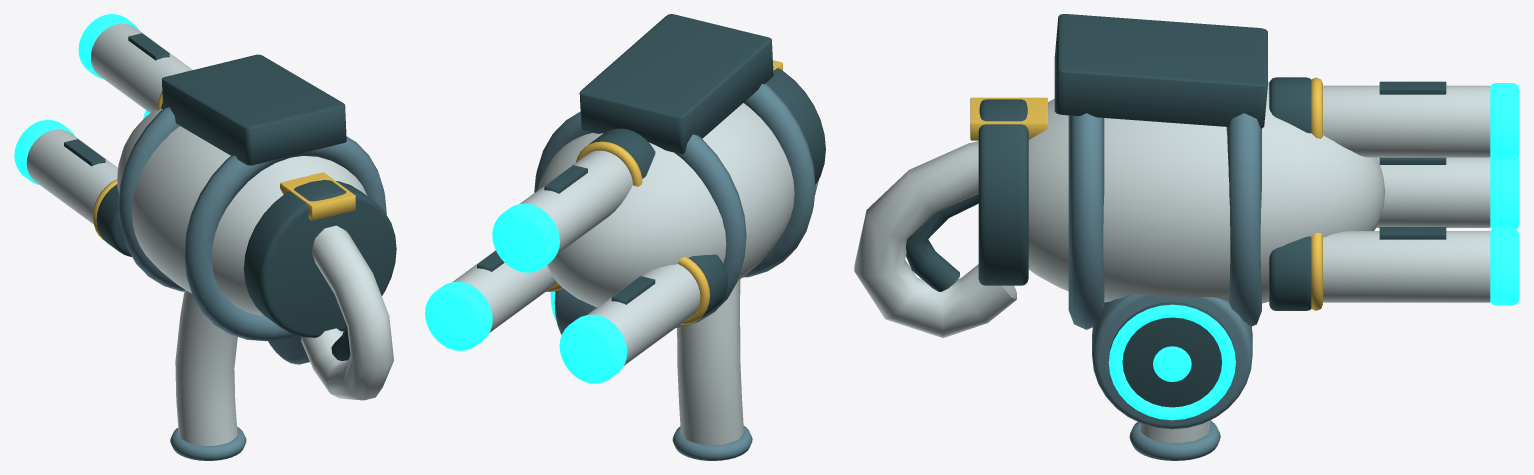
Rendered from tidebreaker-blaster.glb.
The picture shows the model from 3 angles, left to right: view 1: azimuth 30°, elevation 25°; view 2: azimuth 150°, elevation 25°; view 3: azimuth 270°, elevation 25°; orthographic projection. The views are drawn at different scales.
Visible parts, largest first — view 1: pressure-body, carry-rail, rear-cap, rear-loop-grip, body-band--0.35, forward-grip, barrel-left-sleeve, barrel-upper-sleeve, body-band-0.22, thumb-switch, grip-pommel, barrel-left-collar (+6 smaller); view 2: pressure-body, carry-rail, forward-grip, barrel-upper-sleeve, barrel-left-sleeve, body-band-0.22, body-band--0.35, barrel-upper-emitter, barrel-left-emitter, barrel-right-emitter, barrel-right-sleeve, rear-cap (+8 smaller); view 3: pressure-body, carry-rail, rear-loop-grip, barrel-right-sleeve, barrel-upper-sleeve, rear-cap, body-band--0.35, barrel-left-sleeve, body-band-0.22, drum-face, drum-shell, charge-ring (+14 smaller).
Part boxes in pixels (x1,y1,x2,y2): pressure-body: (117, 109, 367, 315); carry-rail: (162, 54, 346, 165); rear-cap: (243, 180, 396, 337); rear-loop-grip: (301, 225, 393, 400); body-band--0.35: (184, 136, 386, 341); forward-grip: (175, 290, 237, 445); barrel-left-sleeve: (26, 129, 117, 224); barrel-upper-sleeve: (91, 23, 192, 113); body-band-0.22: (118, 107, 184, 291); thumb-switch: (280, 172, 355, 220); grip-pommel: (170, 426, 246, 460); barrel-left-collar: (96, 184, 131, 256); pressure-body: (537, 103, 794, 306); carry-rail: (579, 14, 773, 153); forward-grip: (677, 280, 743, 445); barrel-upper-sleeve: (520, 150, 632, 254); barrel-left-sleeve: (587, 264, 700, 365); body-band-0.22: (534, 111, 746, 327); body-band--0.35: (743, 83, 815, 277); barrel-upper-emitter: (492, 203, 559, 272); barrel-left-emitter: (559, 314, 627, 383); barrel-right-emitter: (425, 281, 492, 350); barrel-right-sleeve: (452, 250, 557, 332); rear-cap: (766, 66, 825, 184); pressure-body: (1028, 81, 1385, 303); carry-rail: (1054, 14, 1267, 128); rear-loop-grip: (854, 141, 1016, 337); barrel-right-sleeve: (1323, 231, 1490, 302); barrel-upper-sleeve: (1323, 85, 1490, 157); rear-cap: (978, 99, 1028, 285); body-band--0.35: (1068, 113, 1104, 329); barrel-left-sleeve: (1376, 157, 1490, 227); body-band-0.22: (1226, 113, 1261, 326); drum-face: (1108, 302, 1235, 407); drum-shell: (1092, 294, 1252, 429); charge-ring: (1108, 304, 1235, 420).
Bounding box in the file's own units: 1 × 1.7 × 2.4.
